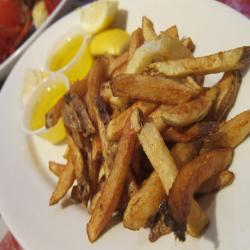fries: (70, 51, 238, 232)
